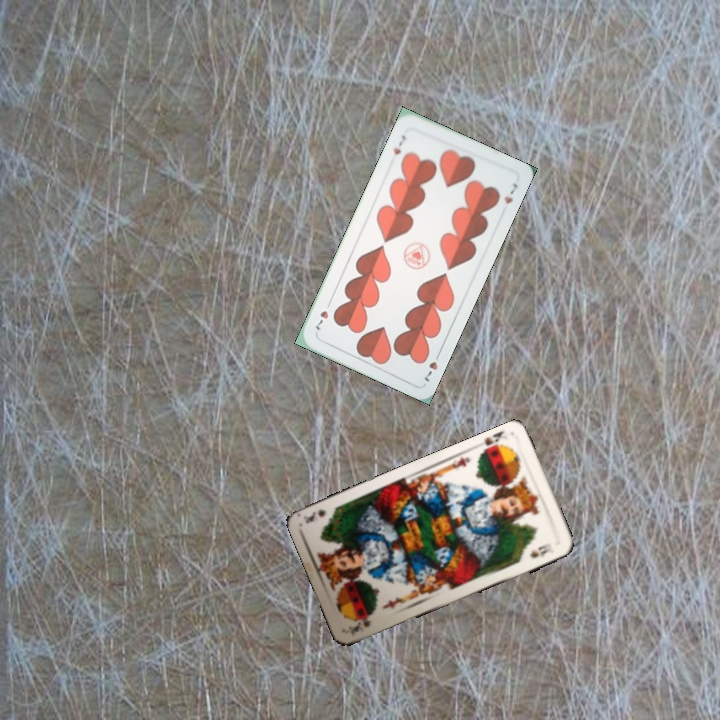H7: (421, 347, 444, 384), (389, 131, 408, 158)
SK: (477, 427, 508, 456), (345, 614, 374, 639)
